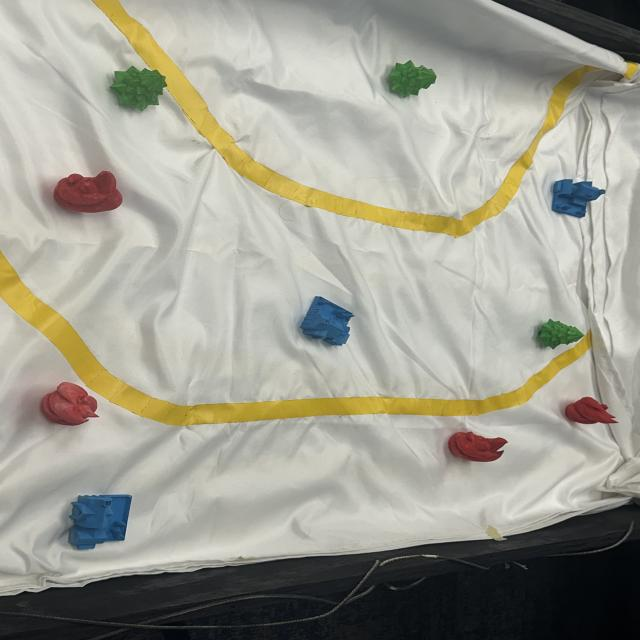fire: (55, 170, 125, 213), (40, 381, 100, 427), (448, 429, 506, 461), (565, 395, 620, 426)
house: (70, 493, 132, 551), (302, 294, 354, 344), (552, 178, 608, 218)
tree: (109, 66, 166, 112), (391, 58, 437, 97), (538, 318, 586, 349)
